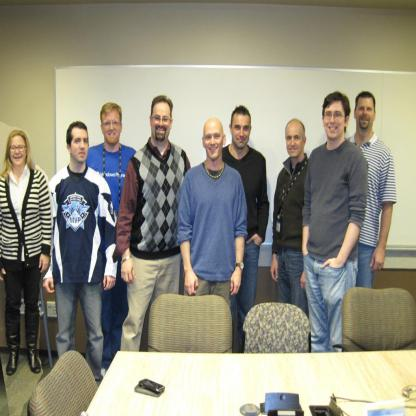face: (325, 105, 346, 139), (152, 108, 171, 142), (204, 126, 223, 160), (232, 118, 251, 148), (103, 114, 122, 144), (287, 128, 305, 158), (71, 132, 89, 162), (357, 101, 375, 130), (10, 139, 27, 165)
